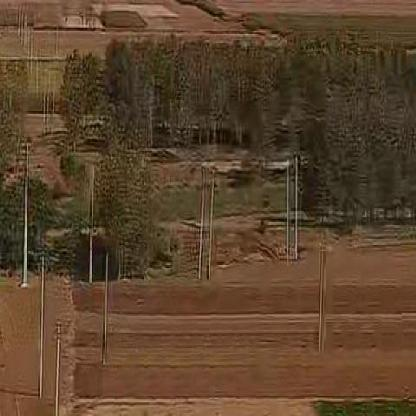other: (24, 243, 216, 383)
